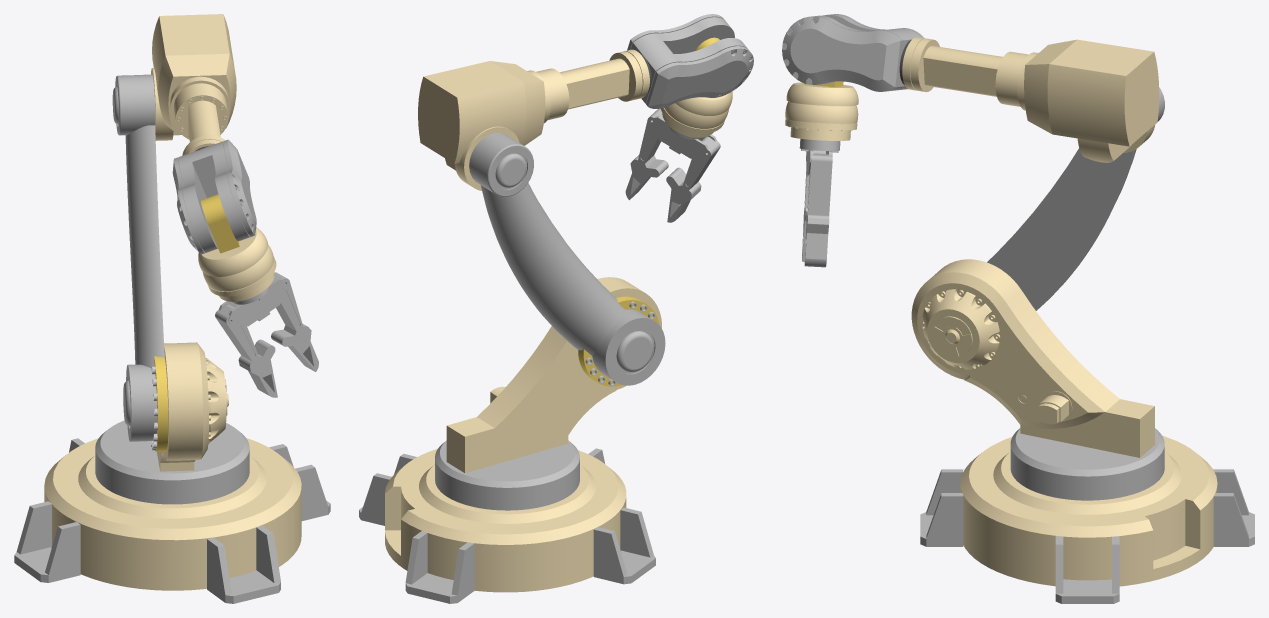
File: Industria_ arm_renamed_gdb.glb
The picture shows the model from 3 angles, left to right: view 1: azimuth 30°, elevation 25°; view 2: azimuth 150°, elevation 25°; view 3: azimuth 270°, elevation 25°; orthographic projection. The views are drawn at different scales.
Parts seen in each view (by area): view 1: Body1, Body1.009, [Interactable] 001, Body1.007, Body1.024, Body1.027, Body1.001, Body1.005, Body1.002, Body1.023, [Interactable] 006, [Interactable] 007 (+7 smaller); view 2: Body1.009, Body1, Body1.007, Body1.023, Body1.027, [Interactable] 001, Body1.024, Body1.001, Body1.005, Body1.004, [Interactable] 006, [Interactable] 007 (+6 smaller); view 3: Body1.007, Body1, Body1.009, Body1.023, Body1.024, Body1.027, [Interactable] 001, Body1.005, Body1.002, Body1.004, [Interactable] 007, Body1.003 (+4 smaller).
Part boxes in pixels (x1,y1,x2,y2): Body1: [44, 438, 301, 590]; Body1.009: [112, 74, 164, 441]; [Interactable] 001: [95, 420, 249, 504]; Body1.007: [157, 342, 228, 471]; Body1.024: [158, 53, 236, 155]; Body1.027: [172, 139, 256, 254]; Body1.001: [14, 501, 80, 582]; Body1.005: [78, 455, 266, 518]; Body1.002: [207, 525, 280, 603]; Body1.023: [152, 14, 234, 97]; [Interactable] 006: [215, 304, 277, 397]; [Interactable] 007: [271, 272, 318, 371]; Body1.009: [469, 133, 665, 385]; Body1: [385, 448, 626, 592]; Body1.007: [446, 277, 661, 473]; Body1.023: [418, 61, 526, 163]; Body1.027: [627, 14, 753, 108]; [Interactable] 001: [435, 440, 579, 510]; Body1.024: [490, 49, 649, 145]; Body1.001: [593, 507, 655, 584]; Body1.005: [419, 464, 595, 523]; Body1.004: [405, 531, 474, 603]; [Interactable] 006: [666, 136, 720, 222]; [Interactable] 007: [625, 108, 668, 200]; Body1.007: [911, 259, 1154, 457]; Body1: [960, 435, 1217, 586]; Body1.009: [987, 87, 1164, 310]; Body1.023: [1047, 39, 1159, 146]; Body1.024: [902, 37, 1076, 134]; Body1.027: [782, 14, 924, 91]; [Interactable] 001: [1010, 428, 1164, 500]; Body1.005: [993, 451, 1181, 514]; Body1.002: [920, 469, 963, 546]; Body1.004: [1213, 469, 1254, 546]; [Interactable] 007: [804, 153, 832, 267]; Body1.003: [1055, 536, 1119, 603].
Size of the model in its own units: 0.3905 by 0.6327 by 0.5518.
